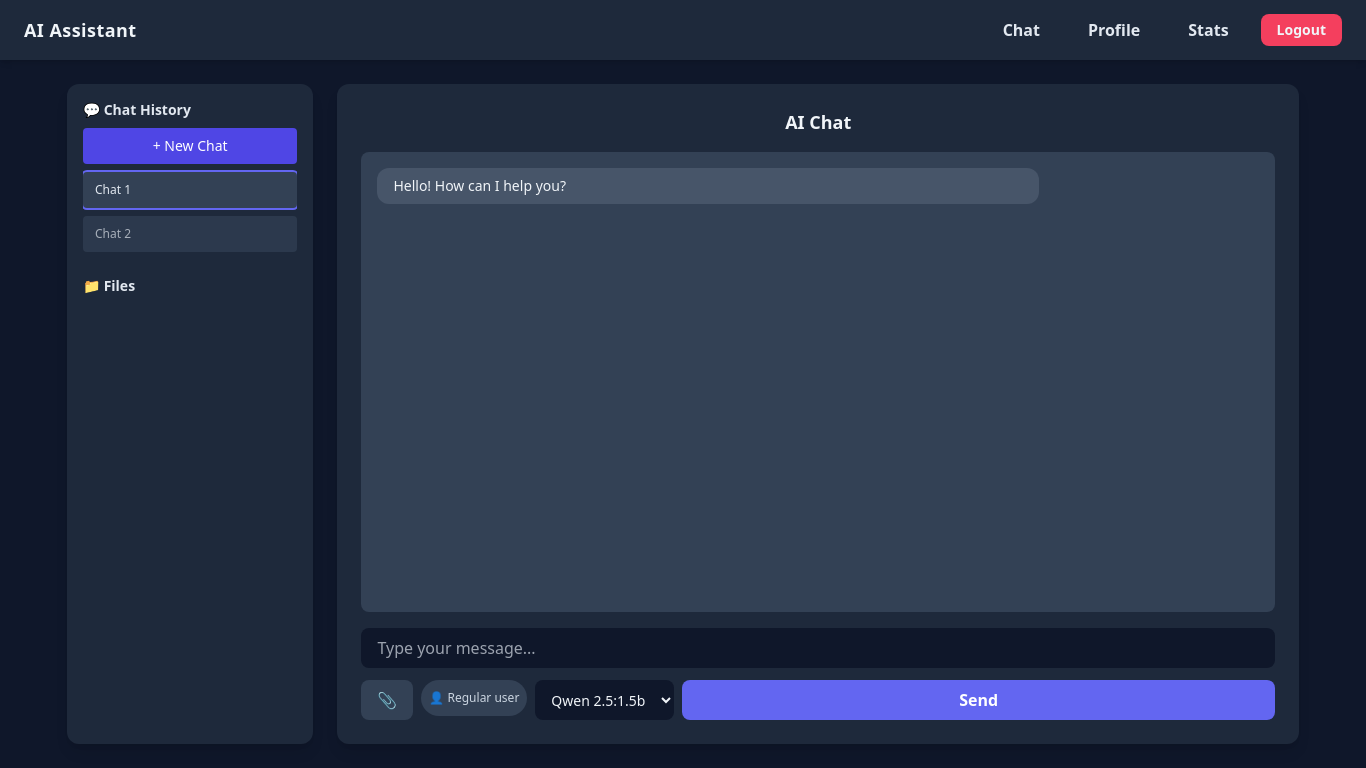
Test: ChatForma Component › sends a message
Check: the heading "AI Chat" is shown, box x1=785 y1=110 x2=851 y2=134
Type "Hello bot" into the field with placeholder "Type your message..." at (818, 648), box x1=361 y1=628 x2=1275 y2=668
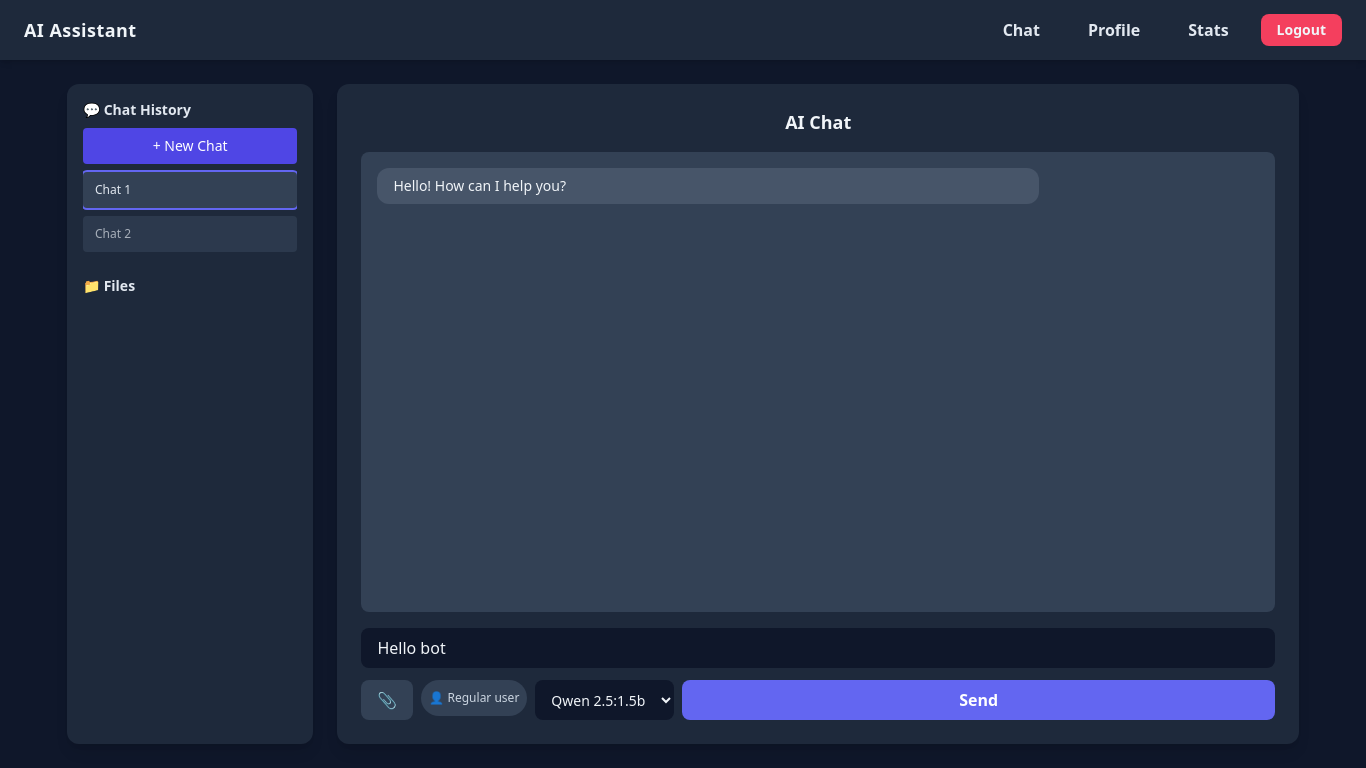
Click the button "Send" at (979, 700), box x1=682 y1=680 x2=1275 y2=720
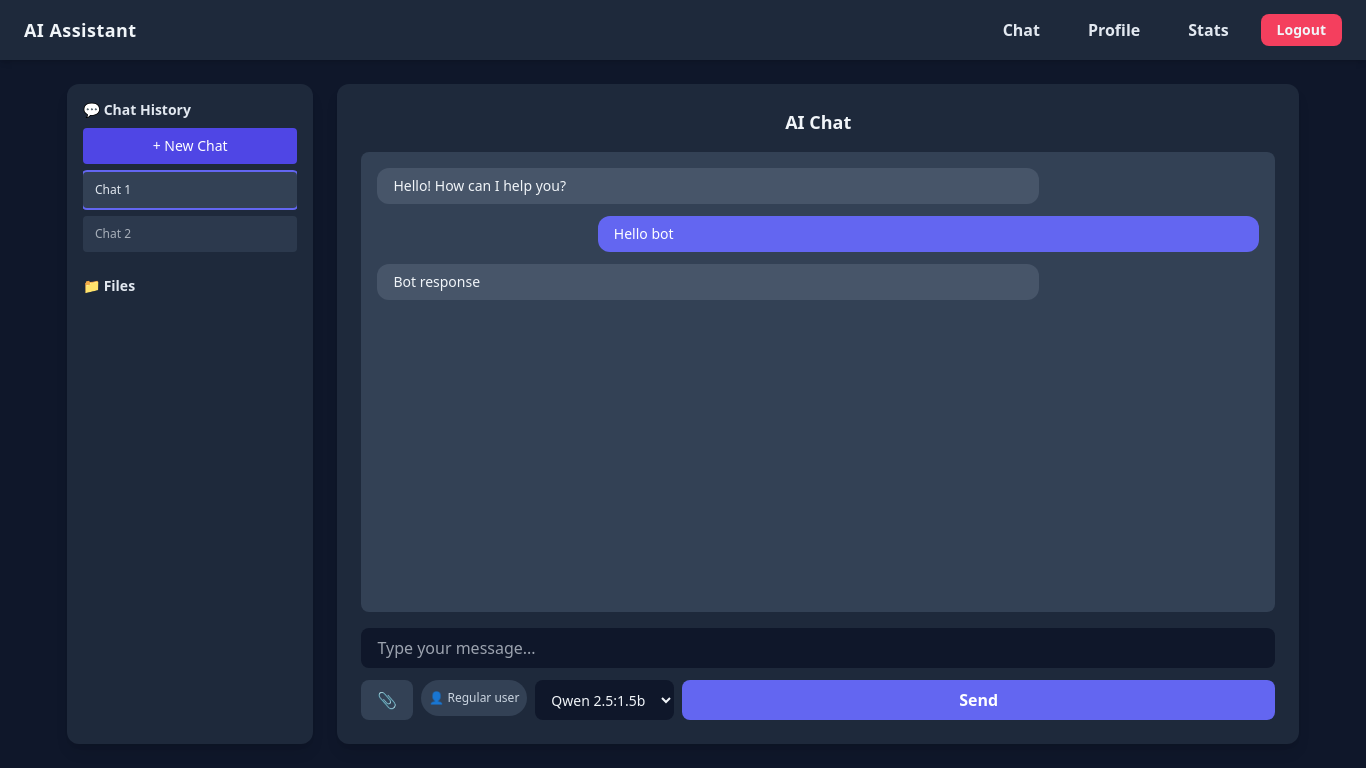
Check: the text "Hello bot" is shown, box x1=598 y1=216 x2=1259 y2=252
Check: the text "Bot response" is shown, box x1=377 y1=264 x2=1039 y2=300
